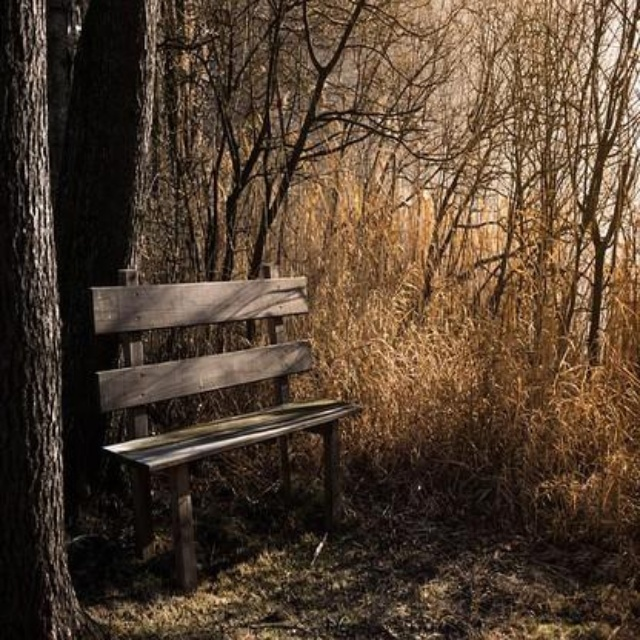obstacle: (72, 268, 378, 571)
